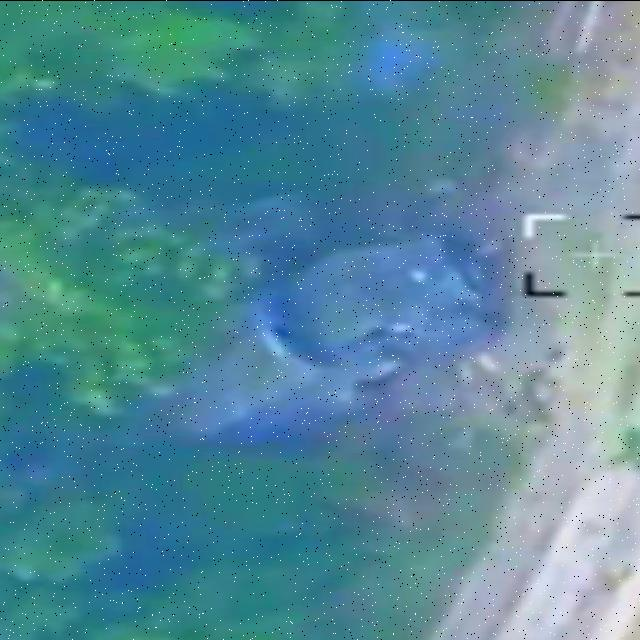TRUCK: (154, 235, 500, 445)
